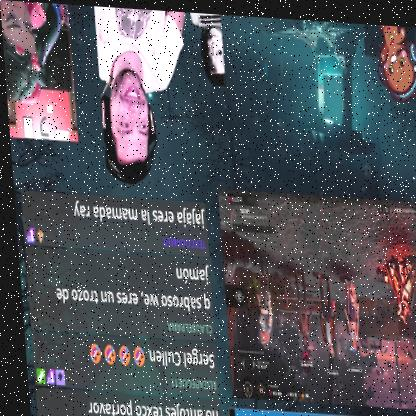streamer: (95, 5, 199, 188), (0, 0, 62, 106)
